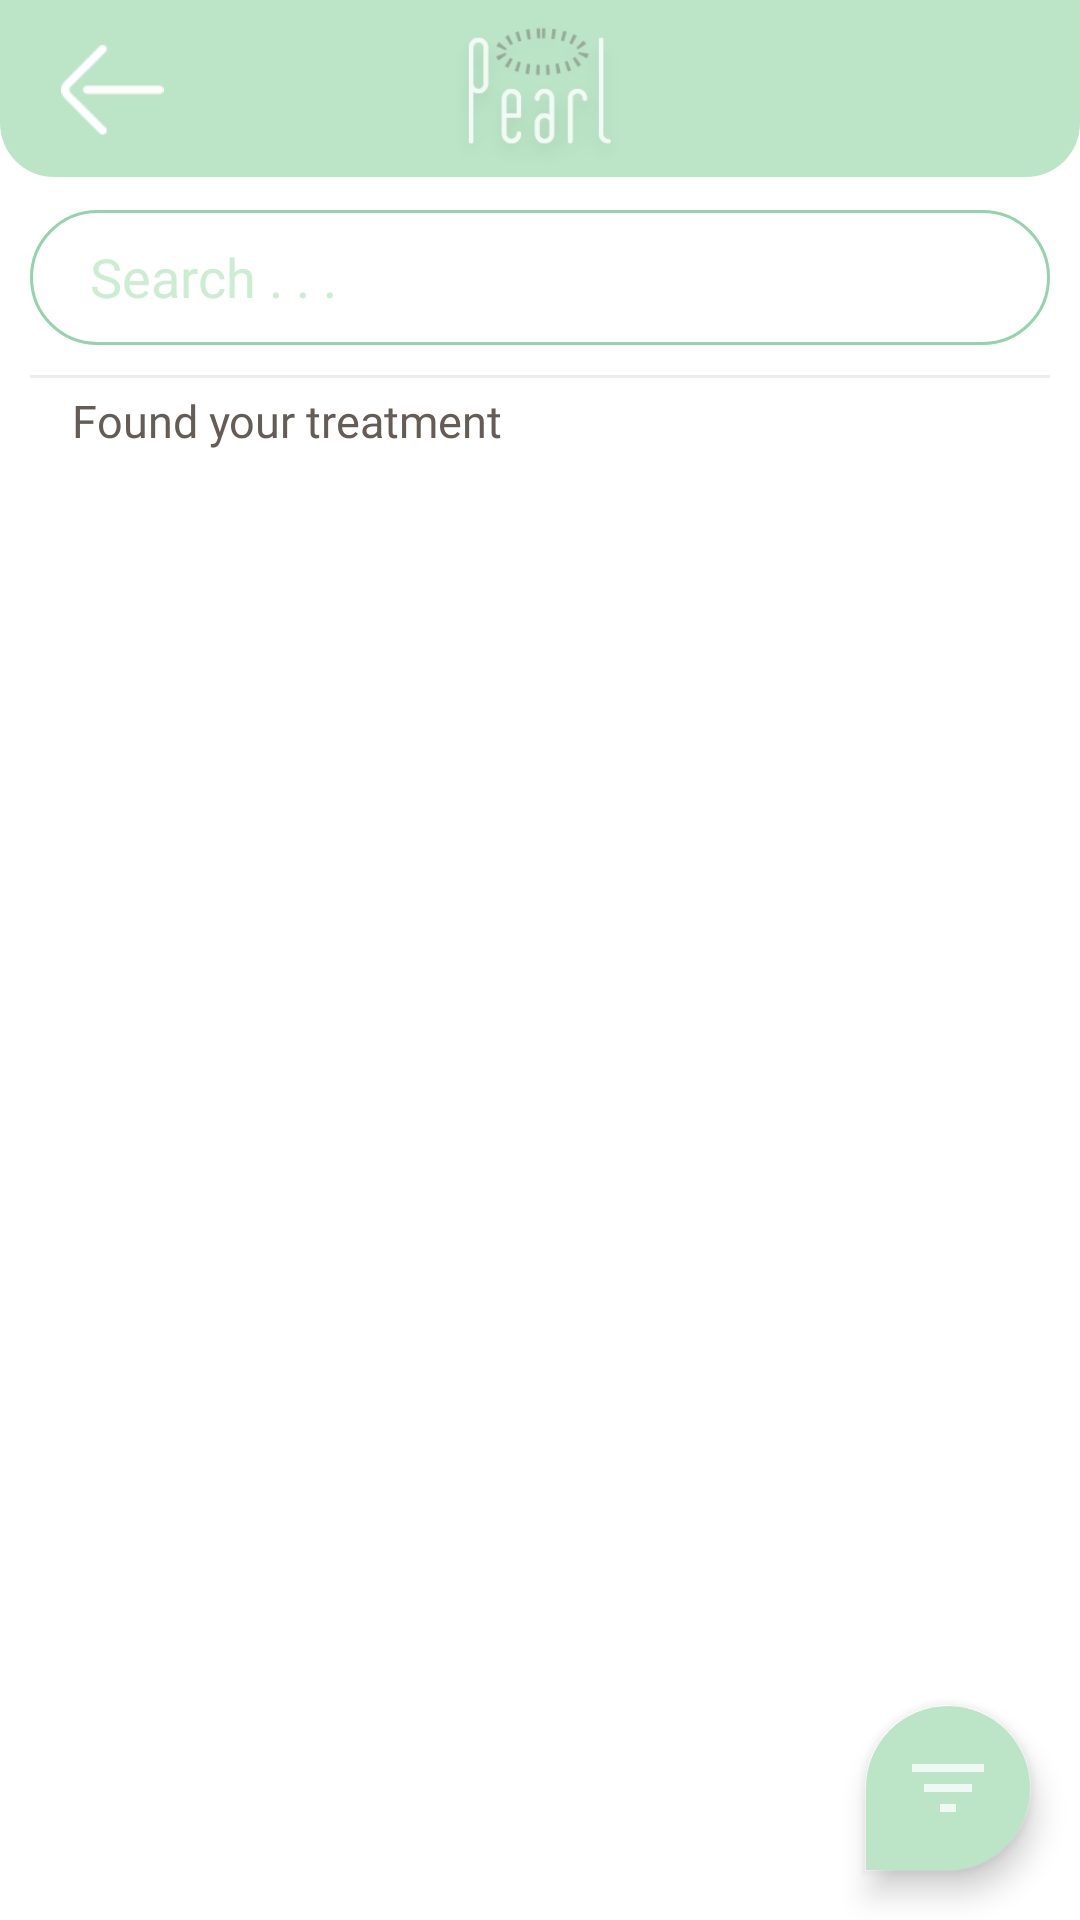

Icons on this 1080×1920 Android screen, each with its box as (x1=x1, y1=y1, x2=x2, y2=y2):
filter: (x1=866, y1=1706, x2=1032, y2=1872)
